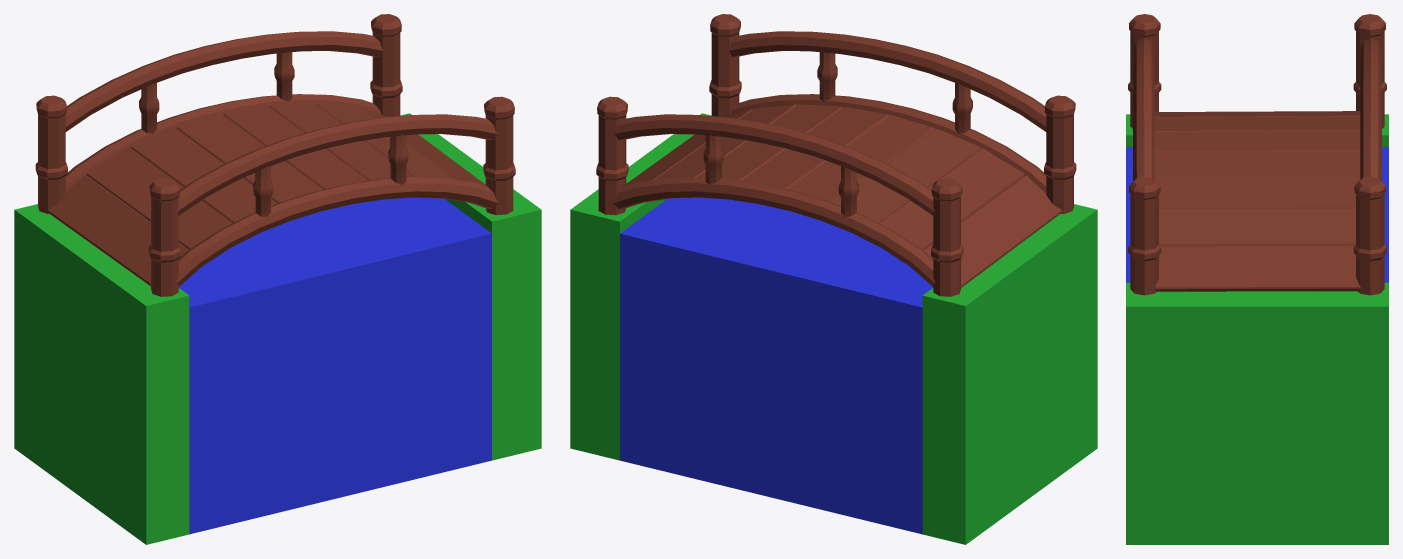
File: module-edge_river_bridge.glb
3 views of the same model, side by side, from view 1: azimuth 30°, elevation 25°; view 2: azimuth 150°, elevation 25°; view 3: azimuth 270°, elevation 25° (orthographic).
Parts seen in each view (by area): view 1: module-edge_river_bridge; view 2: module-edge_river_bridge; view 3: module-edge_river_bridge.
Boxes of the visible parts, x1=… form: module-edge_river_bridge: x1=14, y1=14, x2=541, y2=544; module-edge_river_bridge: x1=570, y1=14, x2=1097, y2=544; module-edge_river_bridge: x1=1126, y1=14, x2=1388, y2=544.
Size of the model in its own units: 0.866 by 0.7618 by 0.5.
